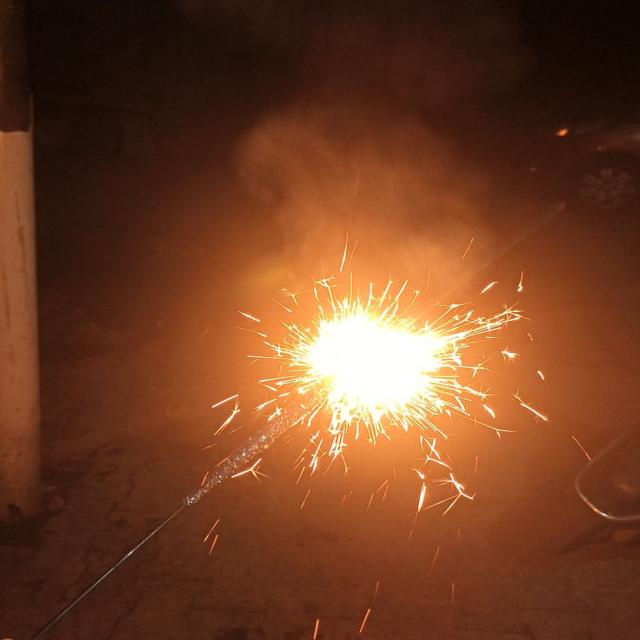fire: (292, 312, 464, 421)
